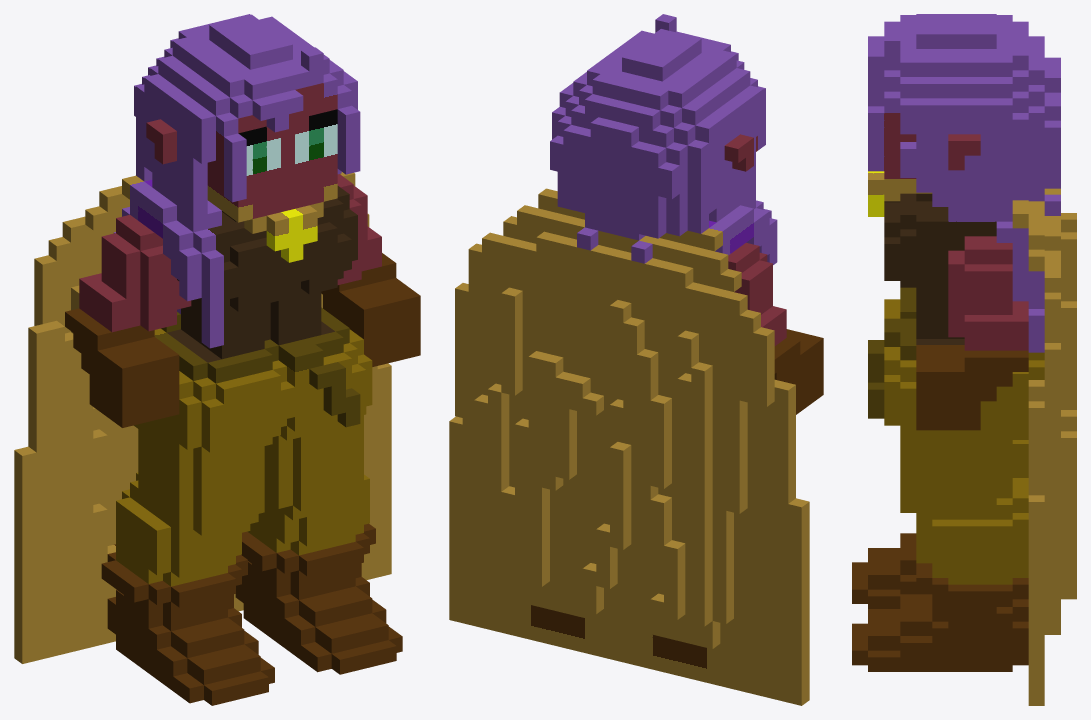
File: Shaedra.fbx
3 views of the same model, side by side, from view 1: azimuth 30°, elevation 25°; view 2: azimuth 150°, elevation 25°; view 3: azimuth 270°, elevation 25° (orthographic). The views are drawn at different scales.
Parts seen in each view (by area): view 1: Shaedra.Merged; view 2: Shaedra.Merged; view 3: Shaedra.Merged.
Part boxes in pixels (left/top/right/bottom): Shaedra.Merged: left=14, top=14, right=420, bottom=705; Shaedra.Merged: left=449, top=14, right=823, bottom=705; Shaedra.Merged: left=852, top=14, right=1076, bottom=705.
Bounding box in the file's own units: 260 × 410 × 140.
1 material, 1 textured.
